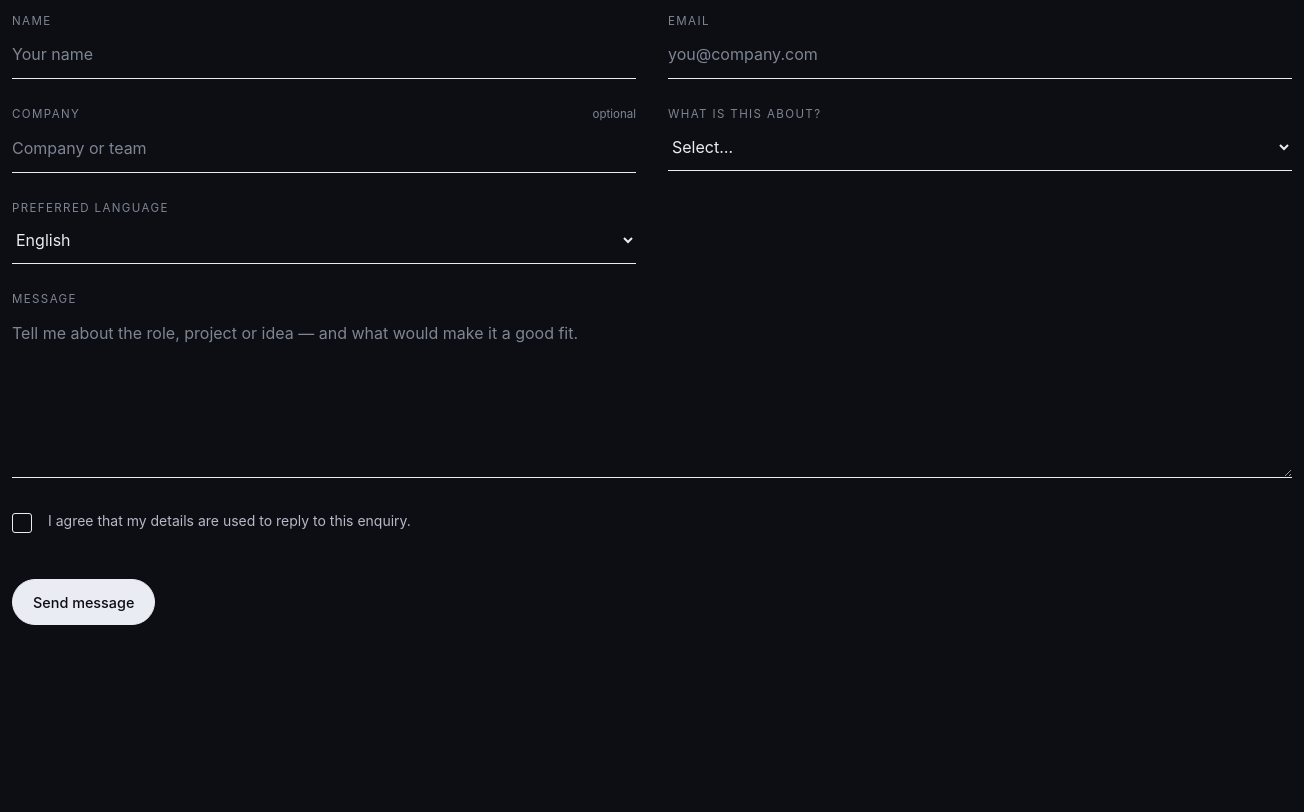
Test: ContactForm › offers direct email and phone when delivery is unavailable
In the field labelled "Name": (324, 55) 12,30 -> 636,79, type "Ada Lovelace"
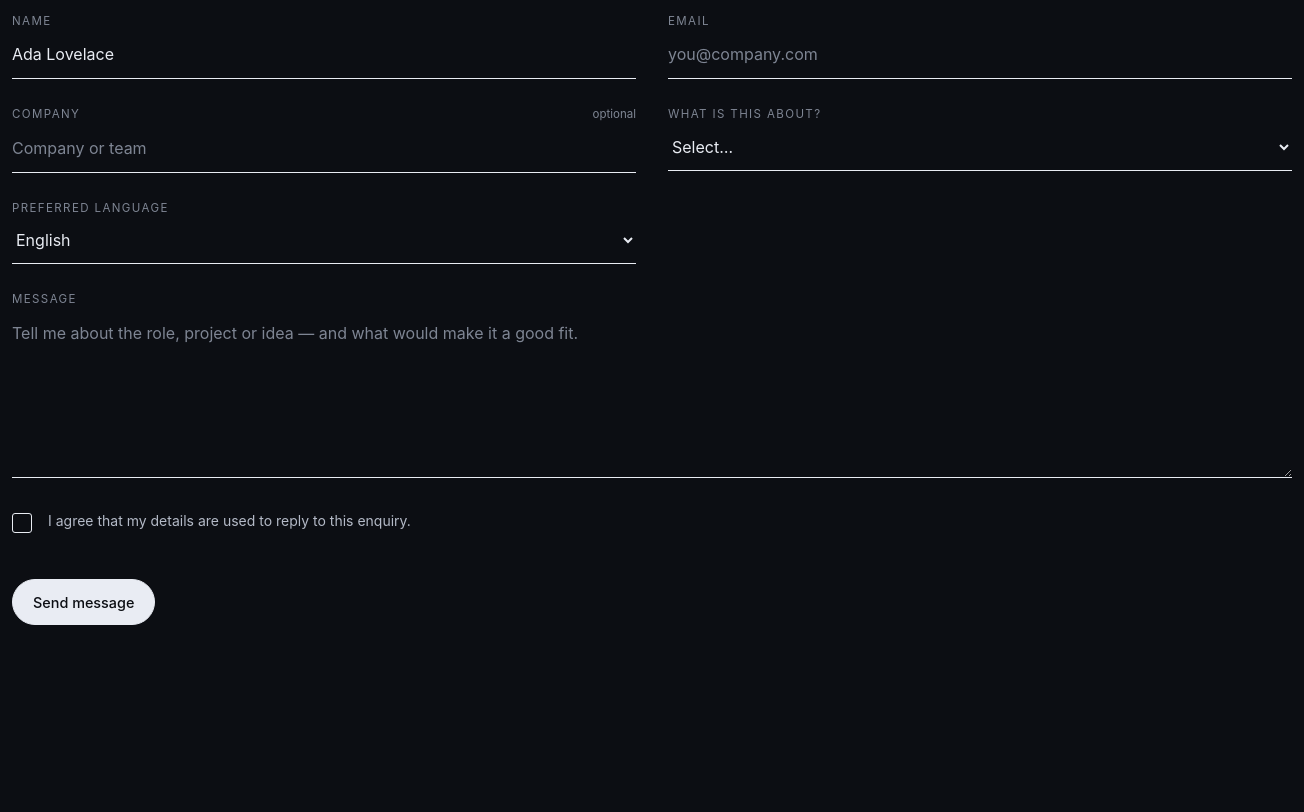
In the field labelled "Email": (980, 55) 668,30 -> 1292,79, type "ada@example.com"
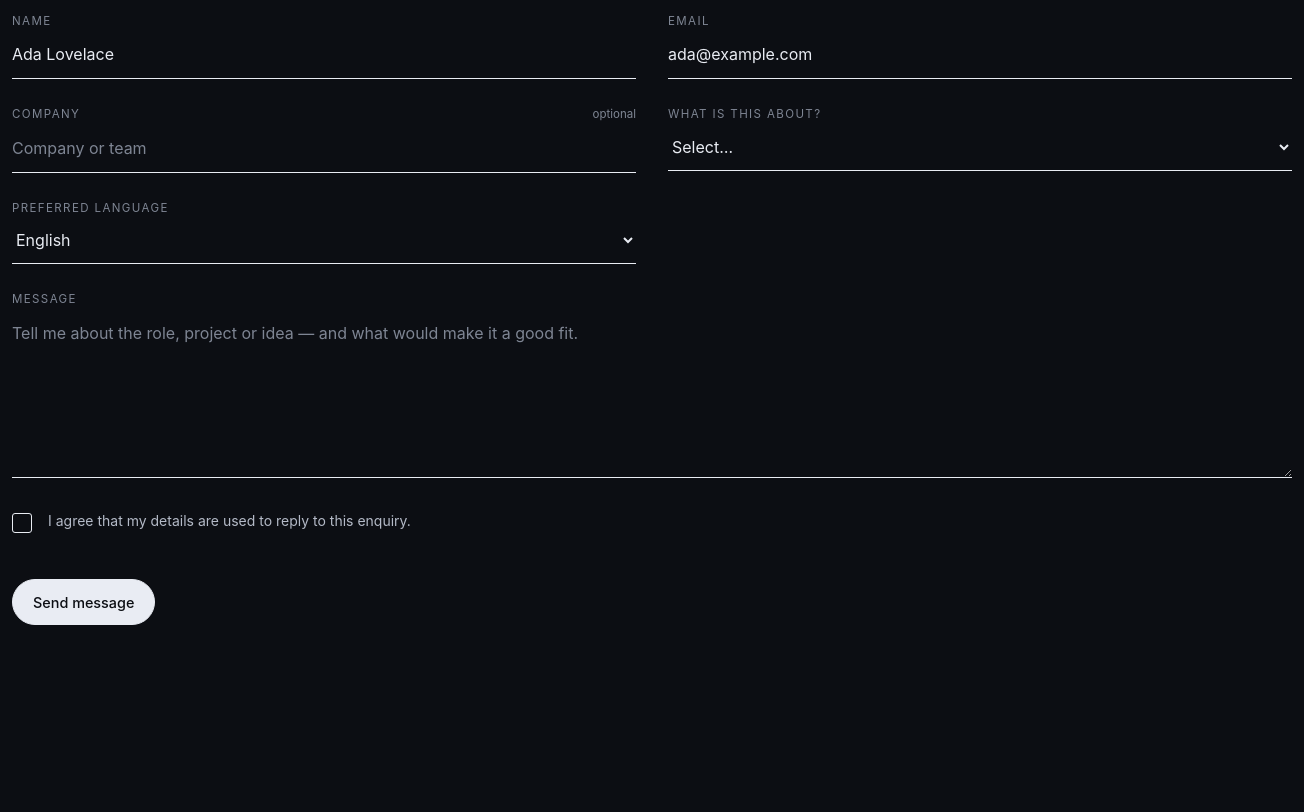
Select "Job opportunity" in the dropdown labelled "What is this about?": (980, 147) 668,124 -> 1292,171
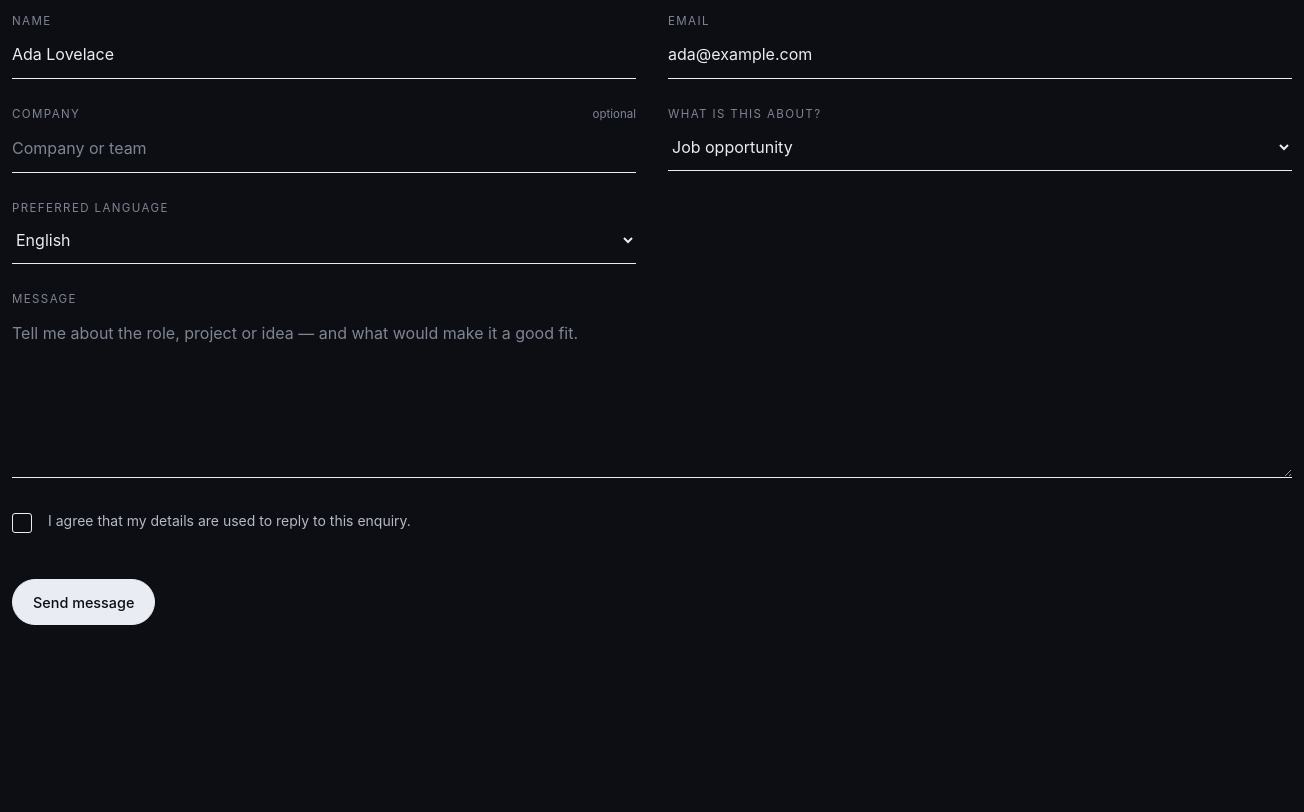
Replace the text in the text box labelled "Message" with "I would like to talk about a junior web development role in your team.": (652, 393) 12,309 -> 1292,478
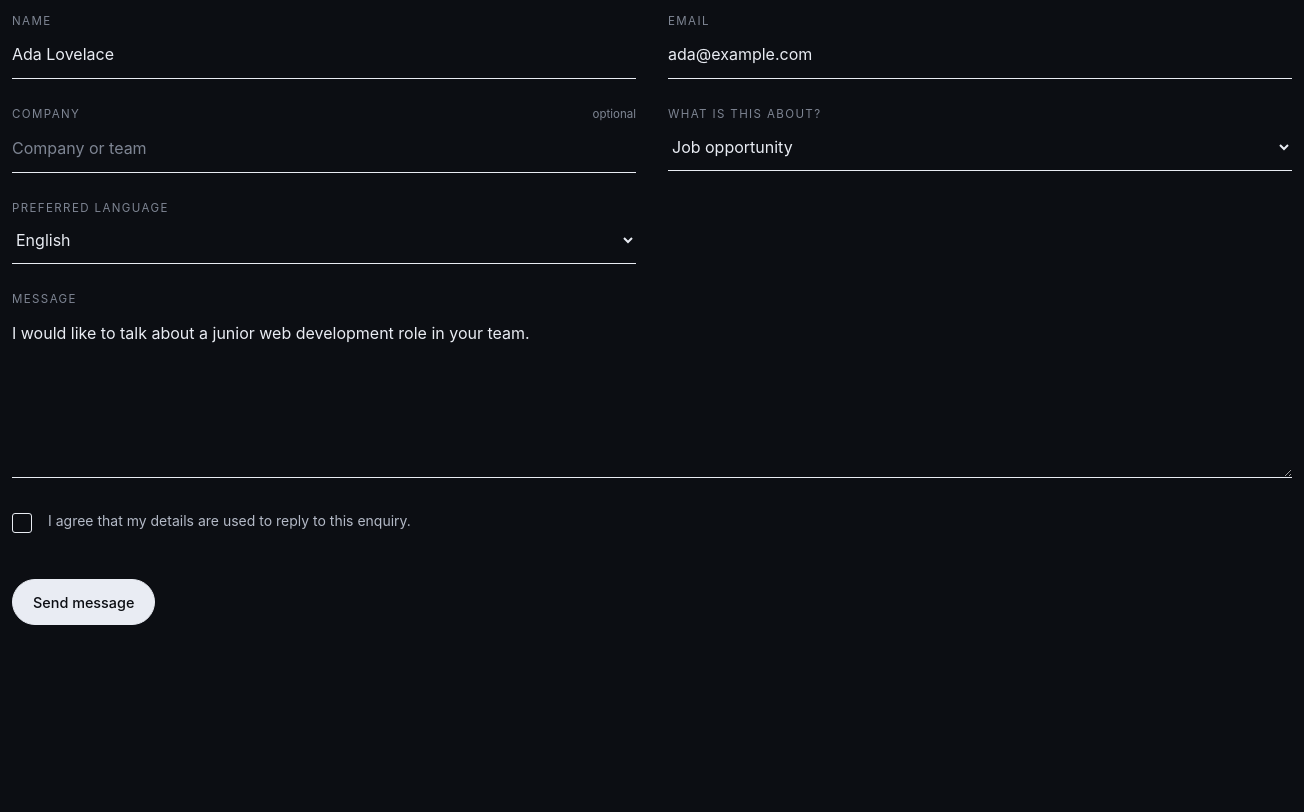
Click the checkbox labelled "I agree that my details are used to reply to this enquiry.": (211, 523) 12,512 -> 411,533
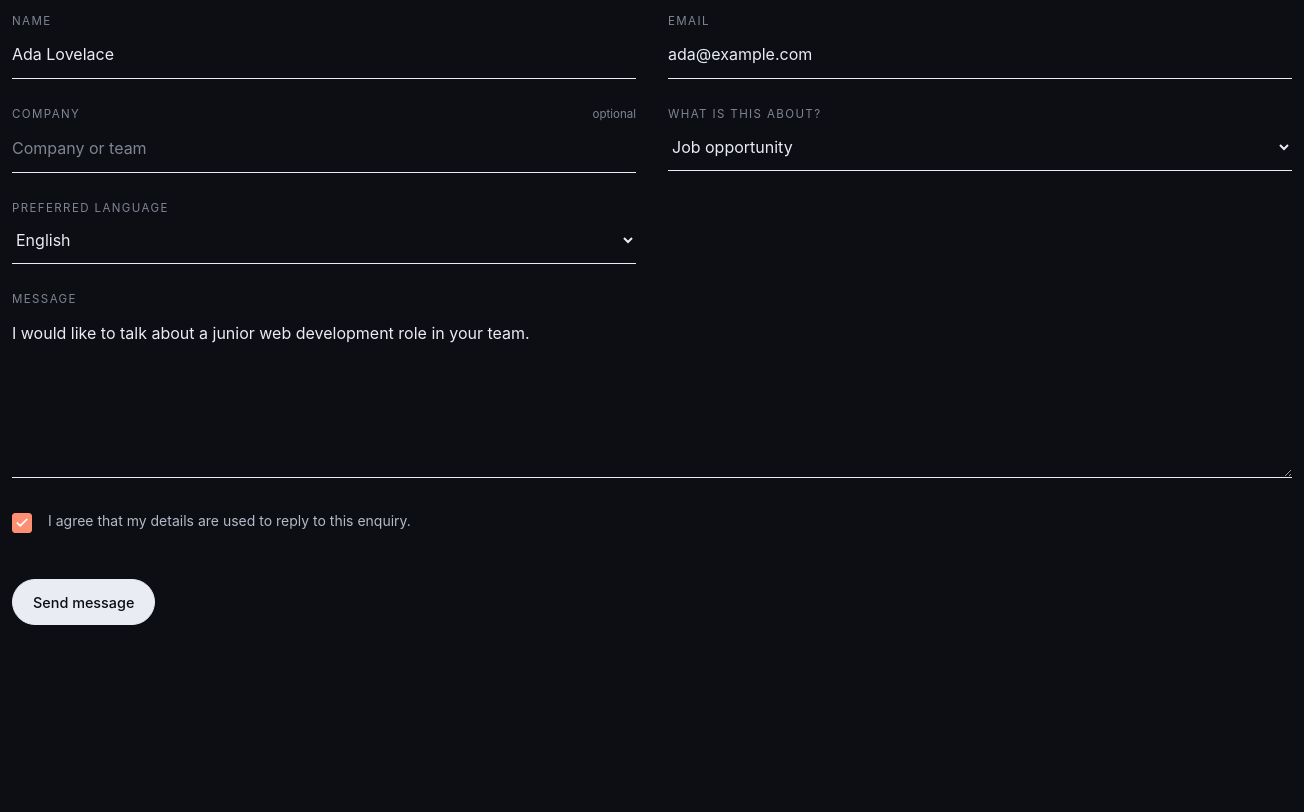
Submit the form
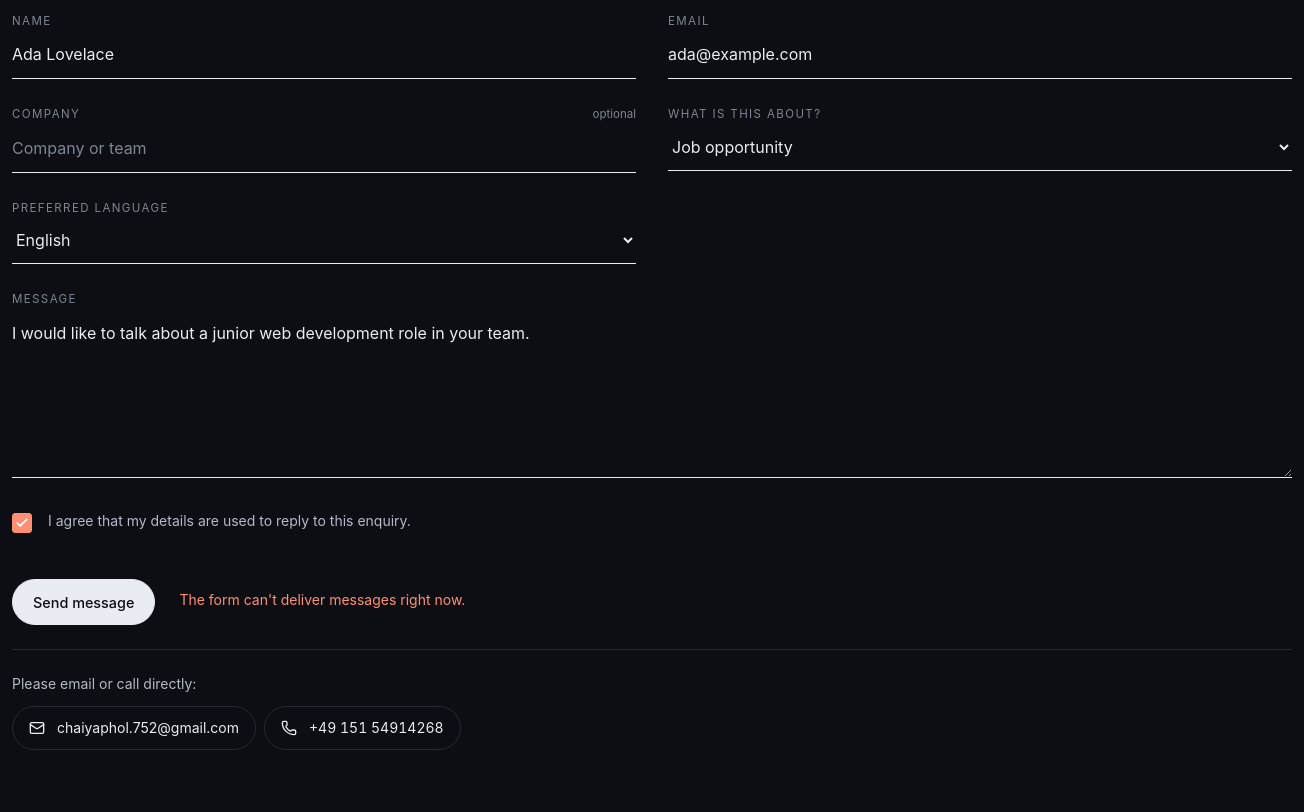
Expected: the text "The form can't deliver messages right now." is shown, 179,590 -> 465,614
